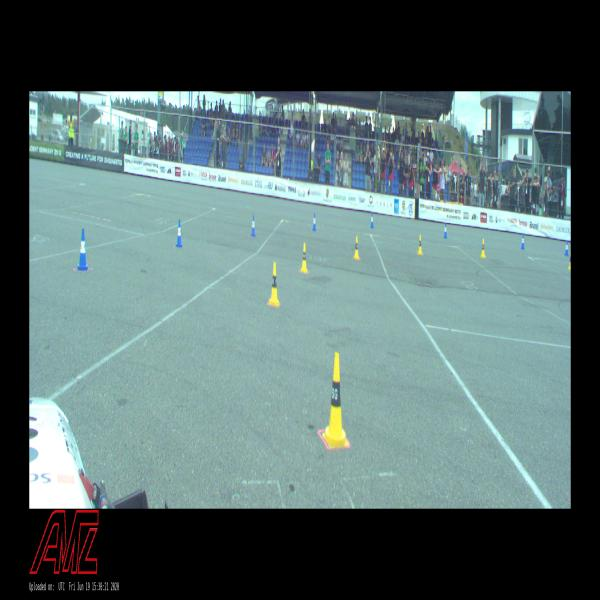blue_cone: (77, 228, 89, 272), (175, 219, 183, 247), (251, 215, 256, 237), (312, 212, 316, 231), (521, 235, 525, 250), (564, 241, 568, 256), (370, 213, 374, 228), (444, 224, 448, 238)
yellow_cone: (322, 353, 349, 448), (268, 262, 280, 305), (301, 243, 308, 272), (353, 235, 360, 259), (481, 238, 486, 258), (418, 234, 422, 255), (568, 253, 571, 270)
